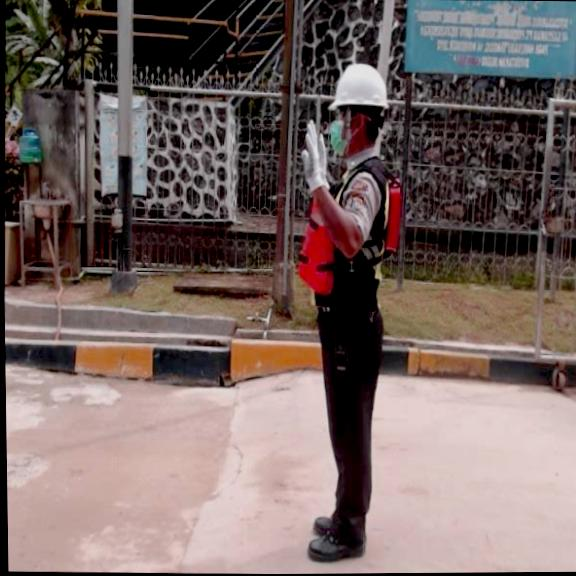safety_vest: (297, 166, 405, 299)
